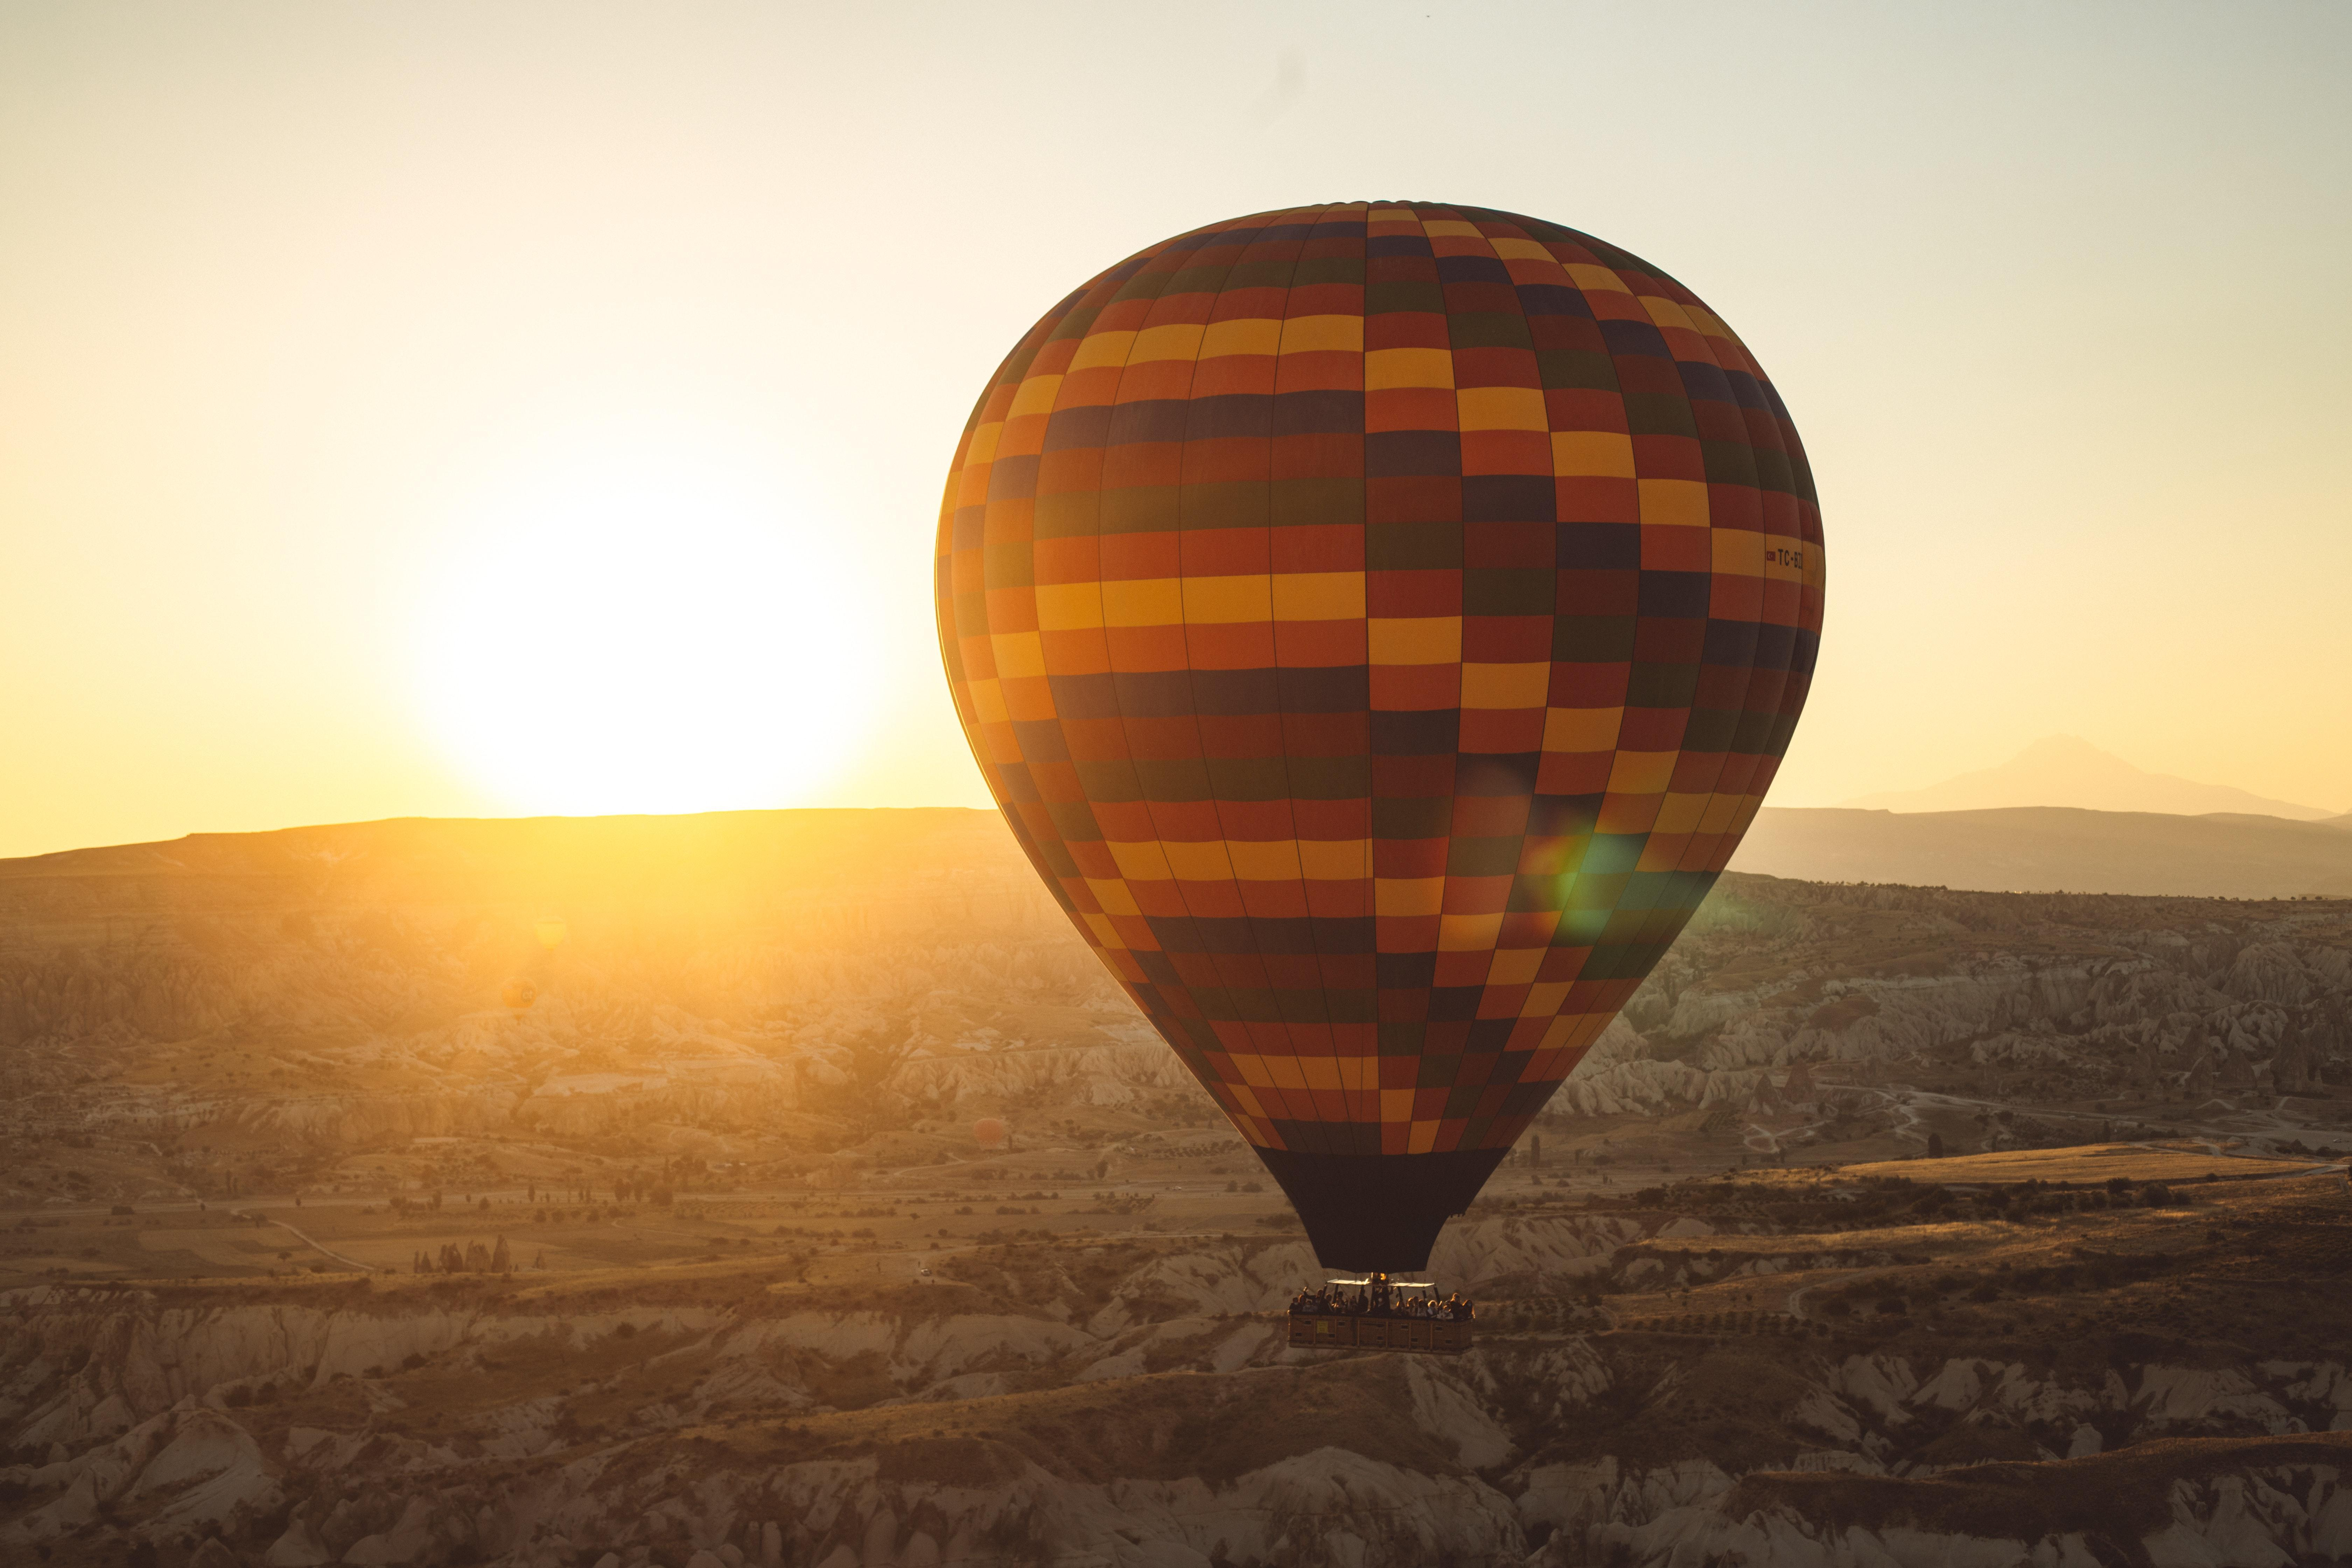hot air ballon: (922, 185, 1834, 1349)
